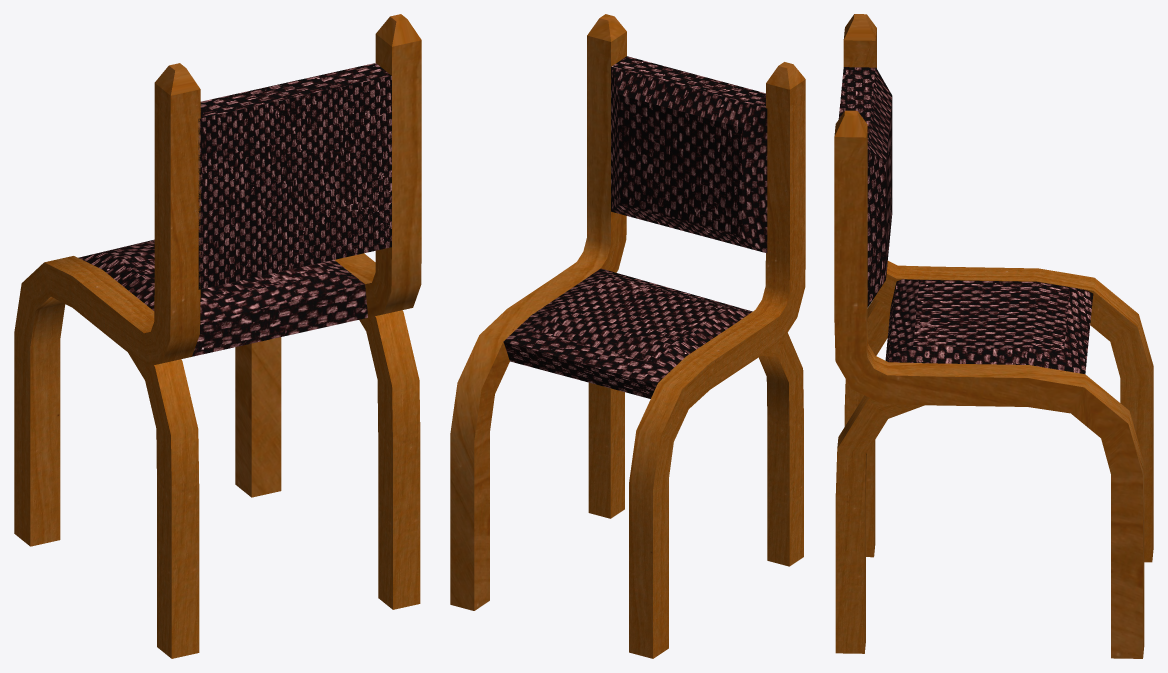
The model's file is Chair.FBX.
The picture shows the model from 3 angles, left to right: view 1: azimuth 30°, elevation 25°; view 2: azimuth 150°, elevation 25°; view 3: azimuth 270°, elevation 25°; orthographic projection. The views are drawn at different scales.
Visible parts, largest first — view 1: Chair; view 2: Chair; view 3: Chair.
Boxes of the visible parts, <box> form: Chair: <box>14,14,421,658</box>; Chair: <box>450,14,805,658</box>; Chair: <box>834,14,1153,658</box>.
Bounding box in the file's own units: 32.57 × 38.21 × 70.59.
1 material, 1 textured.
